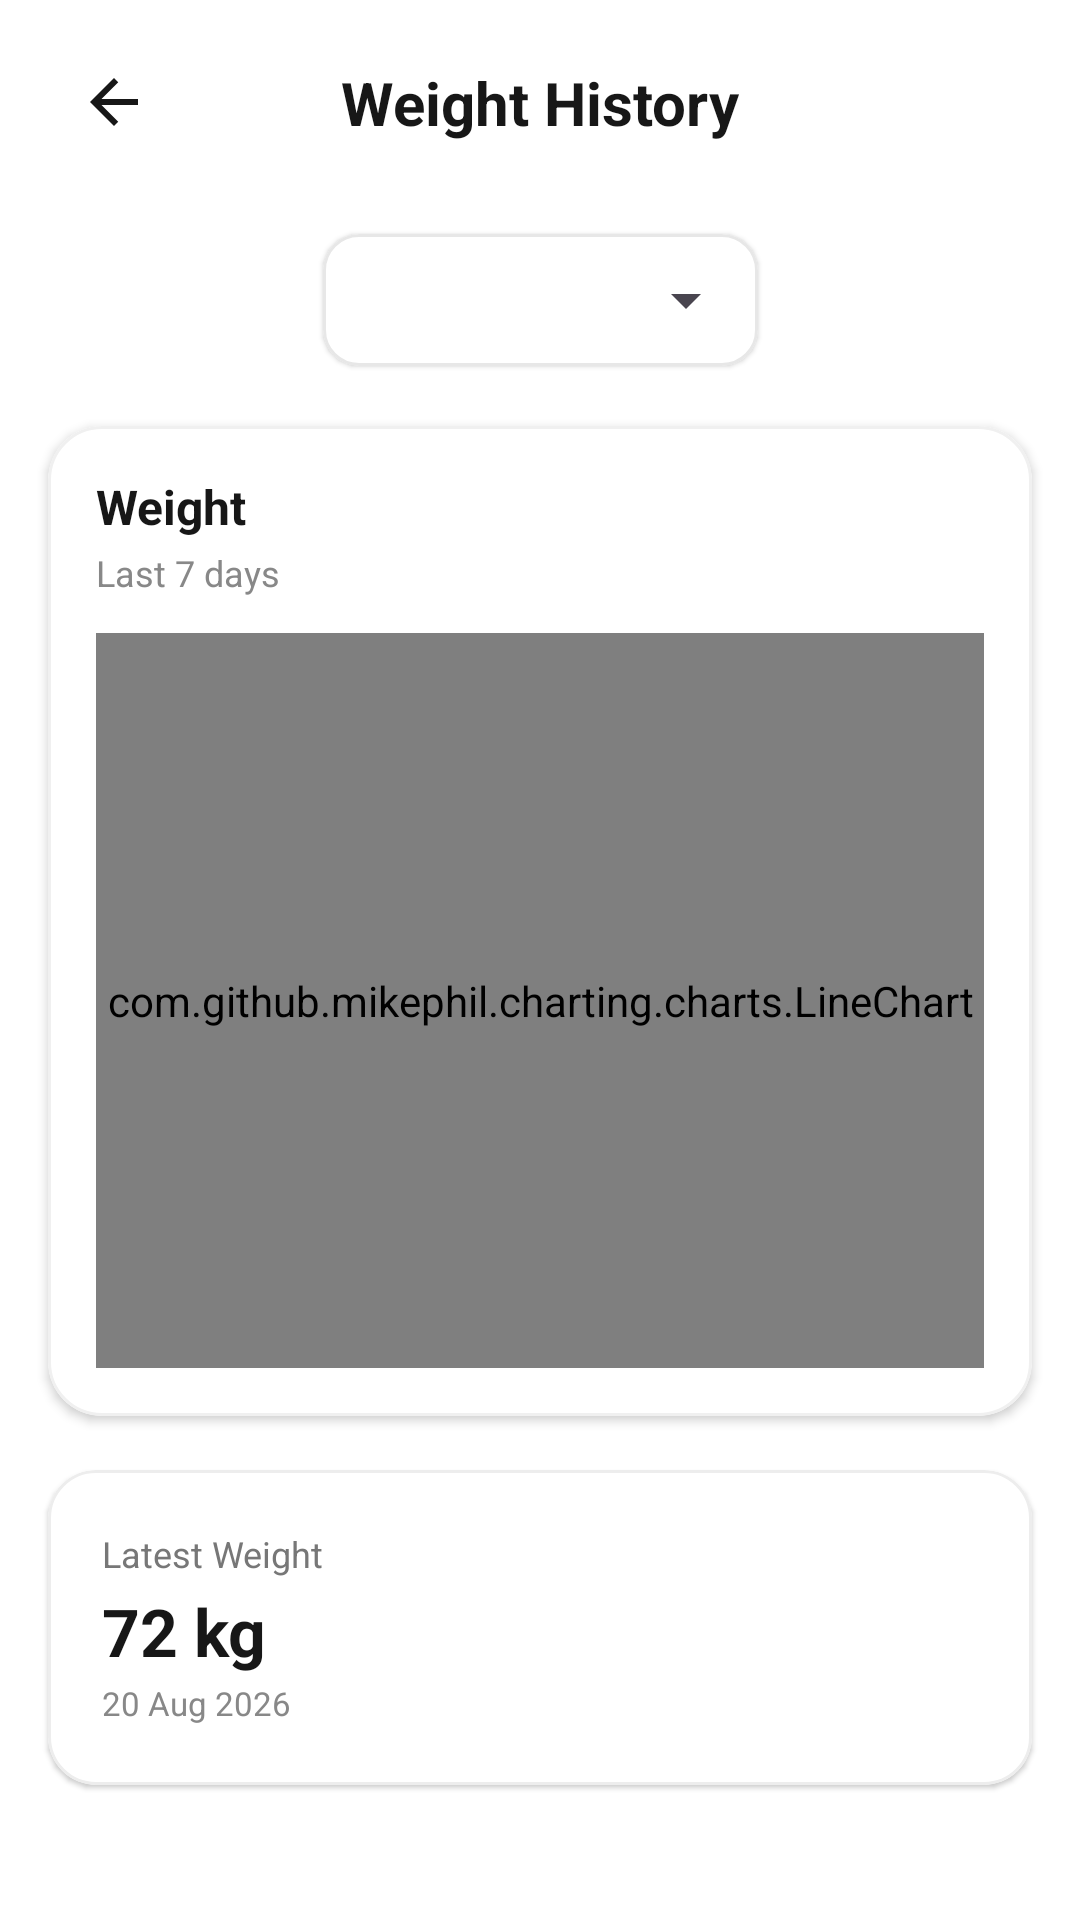

Where icons sit on this 1080*1920 app screen, as (x1, y1, x2, y2):
Back: (90, 78, 138, 126)
